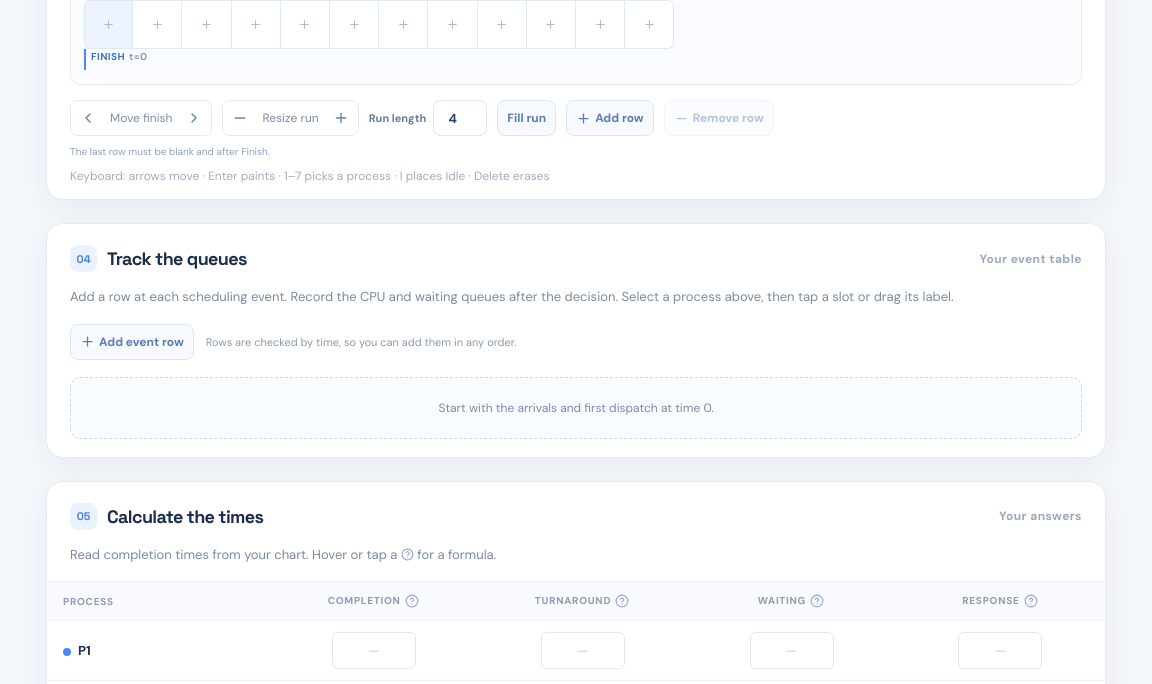
MLFQ exercise › shows and grades all waiting queues in a five-queue problem
This screenshot has width=1152, height=684.
(page scrolled)
What coordinates should you click on to do the following:
click the button "Add event row"
I would click on:
 (132, 342)
Its box is left=70, top=324, right=194, bottom=360.
(page scrolled)
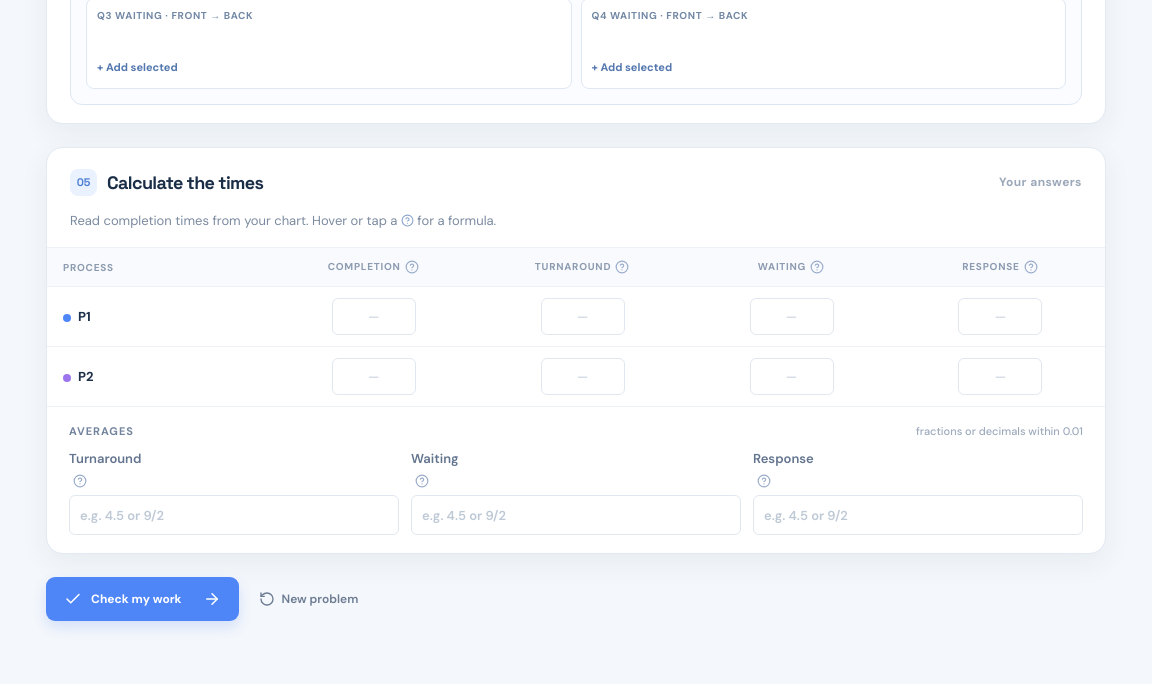
Expected: the button with aria-label "Add selected process to event 1 Q4" is shown, left=592, top=56, right=672, bottom=78
What coordinates should you click on to do the following:
click the button "Check my work"
I would click on:
 (142, 599)
Its box is left=46, top=577, right=239, bottom=621.
(page scrolled)
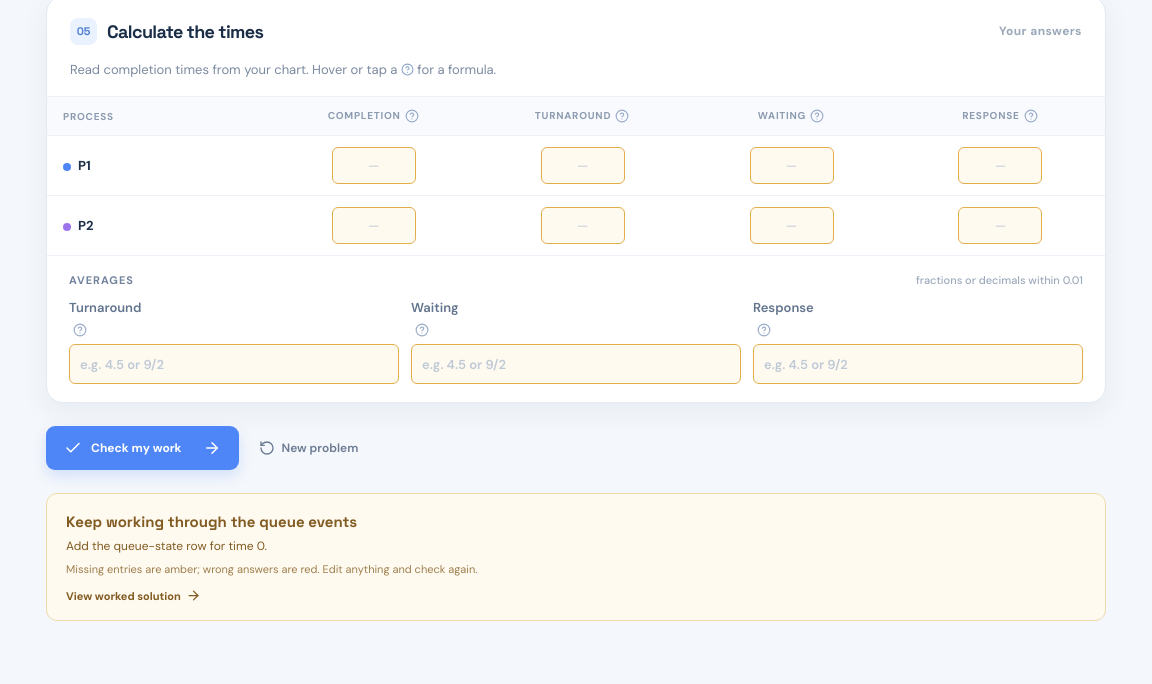
What coordinates should you click on to do the following:
click the button "View worked solution"
I would click on:
 (133, 596)
Its box is left=66, top=588, right=201, bottom=603.
(page scrolled)
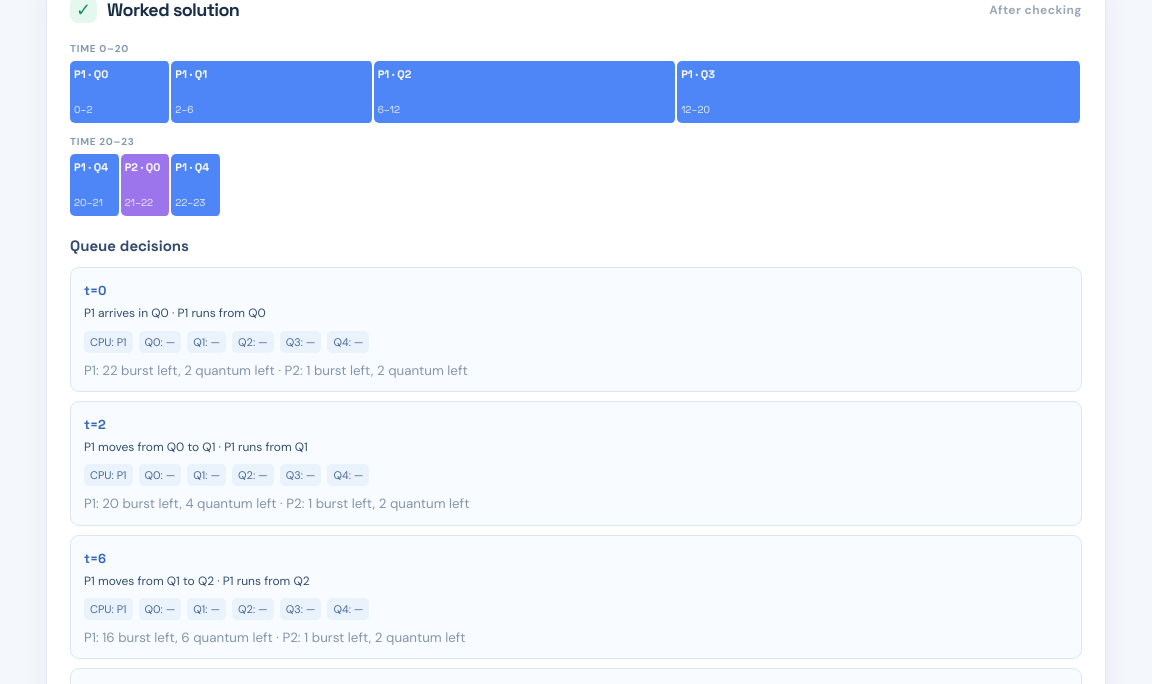
Expected: the text "Q4: —" below "P1 arrives in Q0 · P1 runs from Q0" is shown, left=328, top=331, right=370, bottom=353
